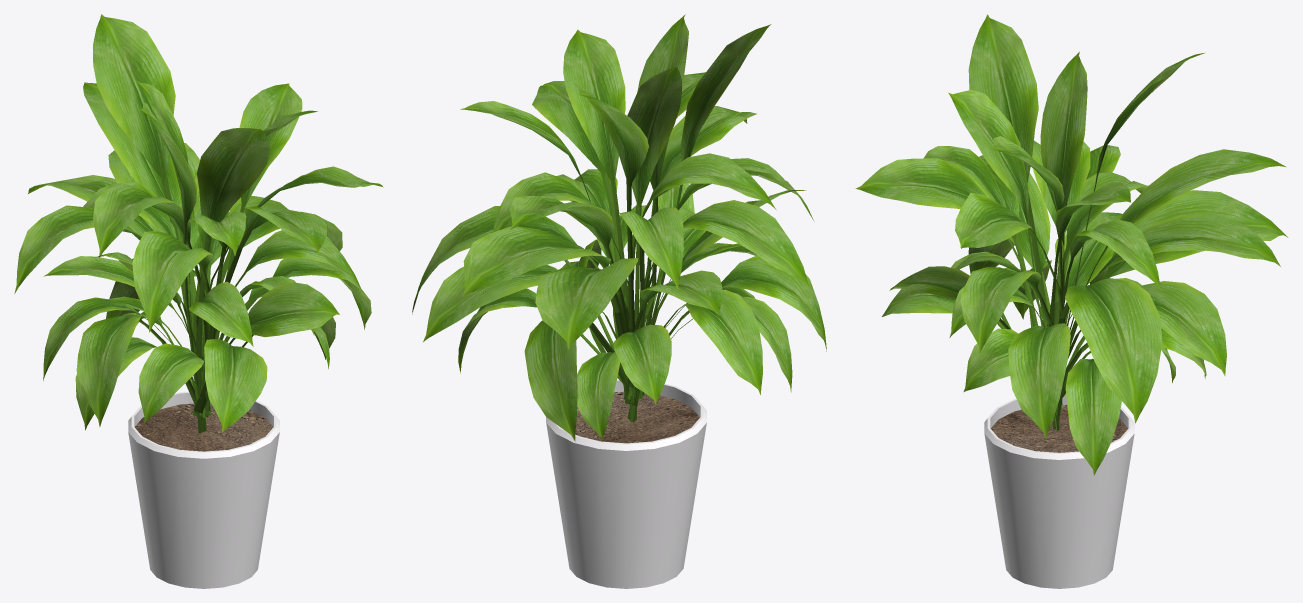
Rendered from Plant 1.fbx.
The picture shows the model from 3 angles, left to right: view 1: azimuth 30°, elevation 25°; view 2: azimuth 150°, elevation 25°; view 3: azimuth 270°, elevation 25°; orthographic projection. The views are drawn at different scales.
Parts seen in each view (by area): view 1: plant 1; view 2: plant 1; view 3: plant 1.
Part boxes in pixels (x1=…): plant 1: x1=14, y1=14, x2=383, y2=588; plant 1: x1=412, y1=14, x2=826, y2=588; plant 1: x1=855, y1=14, x2=1288, y2=588.
Bounding box in the file's own units: 86.07 × 121 × 94.38.
Materials: 2 (2 with a texture image).
